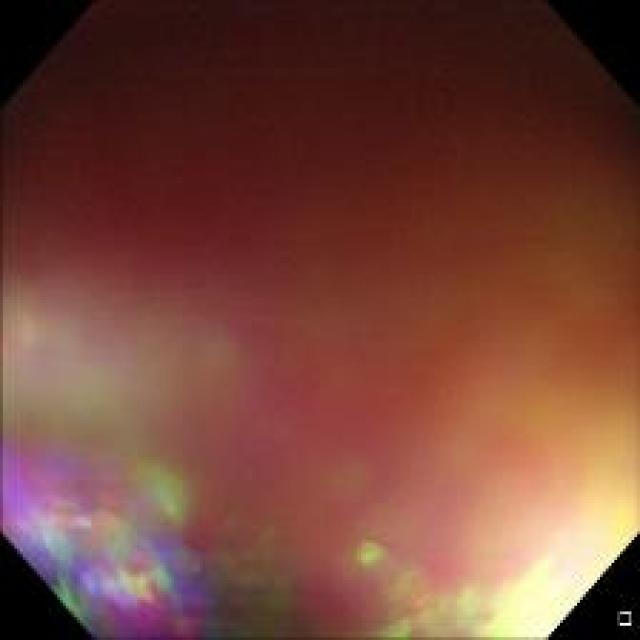color misalignment: (14, 12, 628, 620), (14, 434, 230, 632), (360, 542, 546, 638)
